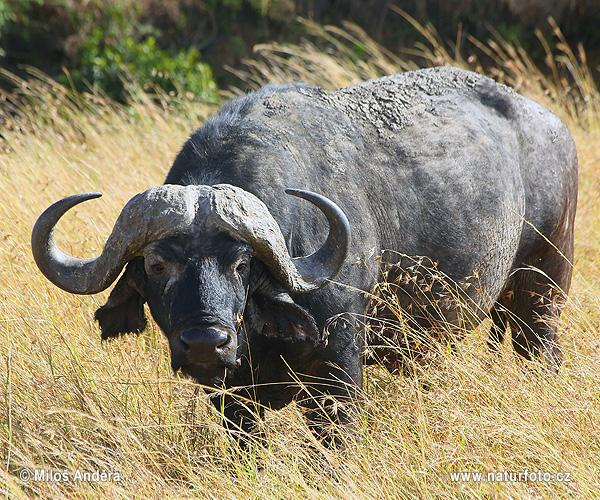Buffalo: (0, 58, 600, 427)
